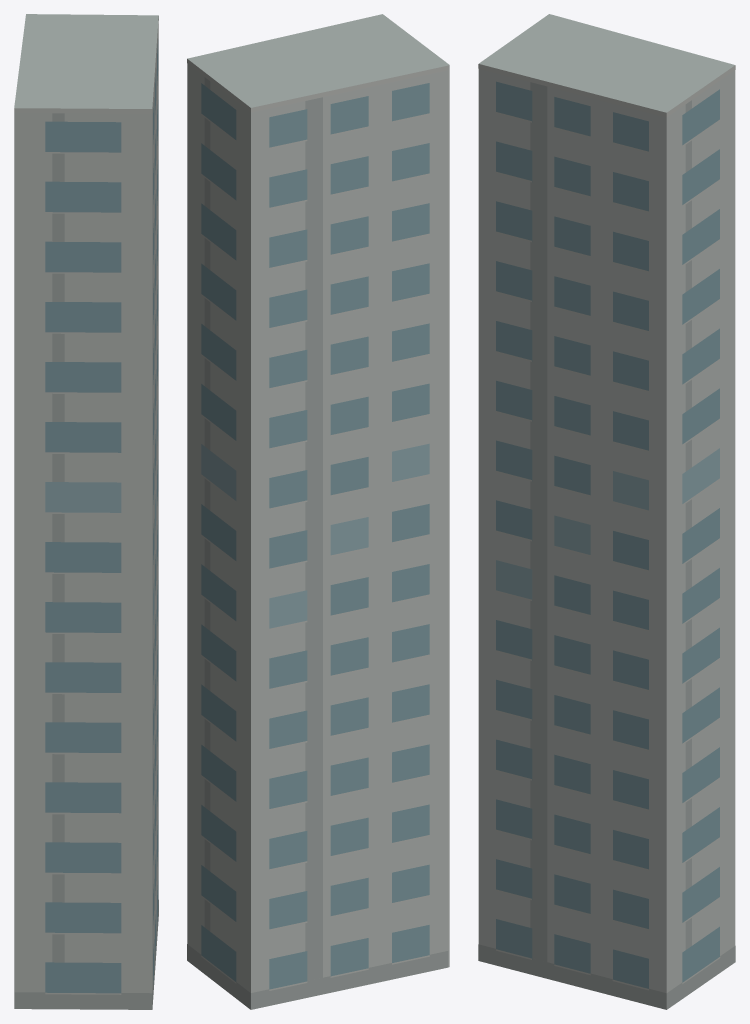
File: survey-upis-32723584.glb
3 views of the same model, side by side, from view 1: azimuth 30°, elevation 25°; view 2: azimuth 150°, elevation 25°; view 3: azimuth 270°, elevation 25° (orthographic).
Visible parts, largest first — view 1: survey-upis-32723584.tmp; view 2: survey-upis-32723584.tmp; view 3: survey-upis-32723584.tmp.
Part boxes in pixels (x1,y1,x2,y2): survey-upis-32723584.tmp: [14, 14, 158, 1009]; survey-upis-32723584.tmp: [187, 14, 449, 1009]; survey-upis-32723584.tmp: [478, 14, 735, 1009].
Size of the model in its own units: 10.81 by 45.75 by 11.88.
